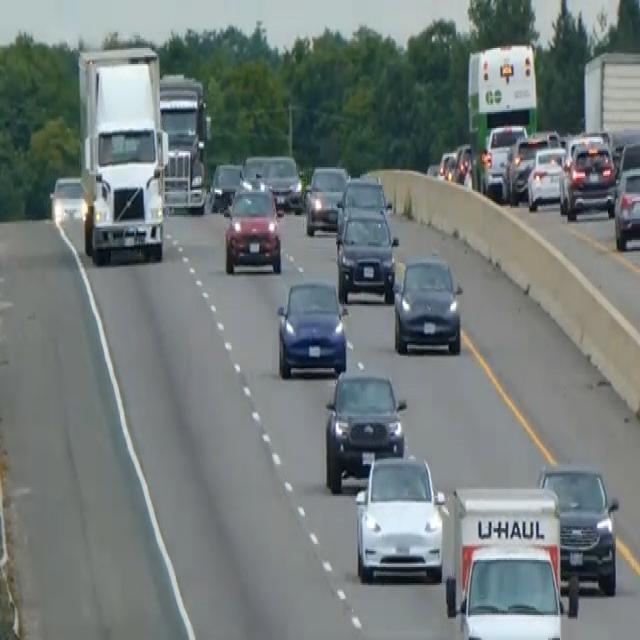car: (353, 452, 445, 583), (451, 542, 568, 638), (537, 460, 619, 596), (323, 366, 406, 491), (392, 252, 463, 356), (276, 276, 348, 378), (335, 206, 397, 302), (223, 182, 282, 276), (558, 133, 616, 219), (505, 132, 556, 204), (480, 121, 526, 197), (304, 162, 348, 234), (336, 174, 388, 231), (526, 144, 566, 210), (262, 153, 302, 210), (613, 164, 639, 250), (49, 174, 85, 226), (208, 160, 243, 212), (616, 137, 639, 181), (241, 153, 268, 187), (451, 142, 472, 183), (437, 150, 456, 180)
lorry: (76, 43, 169, 265)
